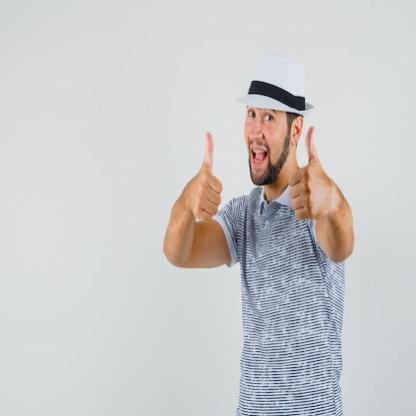thumb_up: (286, 122, 333, 222), (186, 129, 224, 226)
